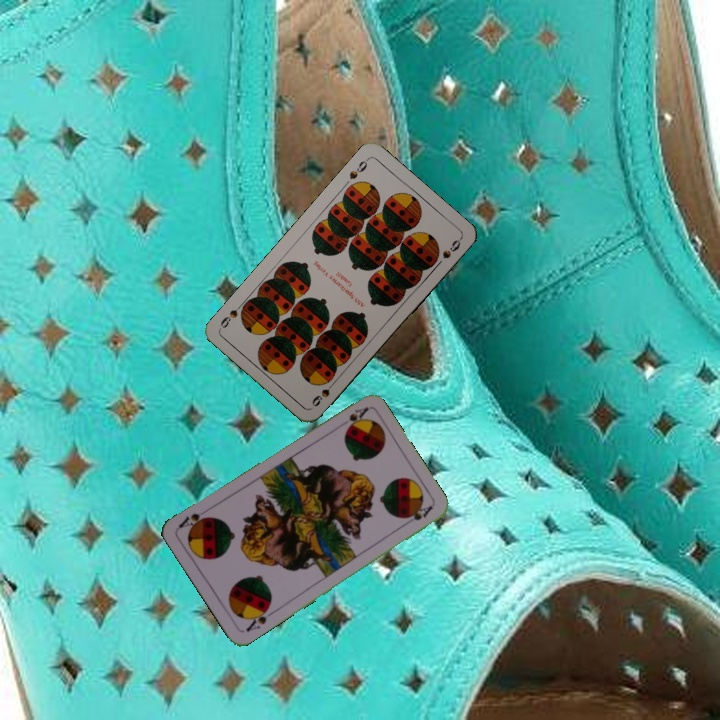S9: (307, 376, 339, 409), (345, 154, 371, 182)
SA: (242, 602, 277, 634), (343, 403, 371, 430)
